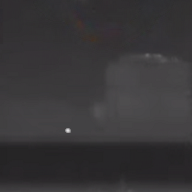Target: (65, 127, 72, 134)
